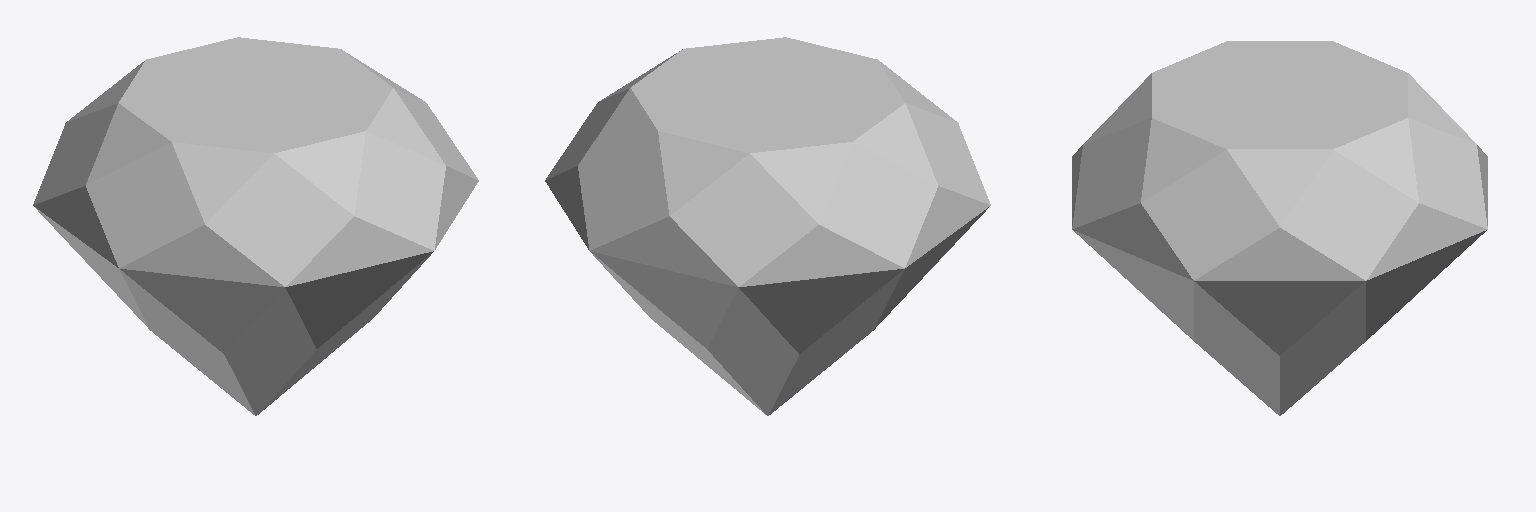
The model's file is diamond7.obj.
The picture shows the model from 3 angles: view 1: azimuth 30°, elevation 25°; view 2: azimuth 150°, elevation 25°; view 3: azimuth 270°, elevation 25°; orthographic projection.
Visible parts, largest first — view 1: Gem_Gem.001; view 2: Gem_Gem.001; view 3: Gem_Gem.001.
Boxes of the visible parts, x1=… form: Gem_Gem.001: x1=33, y1=37, x2=478, y2=415; Gem_Gem.001: x1=545, y1=37, x2=990, y2=415; Gem_Gem.001: x1=1072, y1=41, x2=1487, y2=415.
Size of the model in its own units: 1.35 by 1.15 by 1.35.